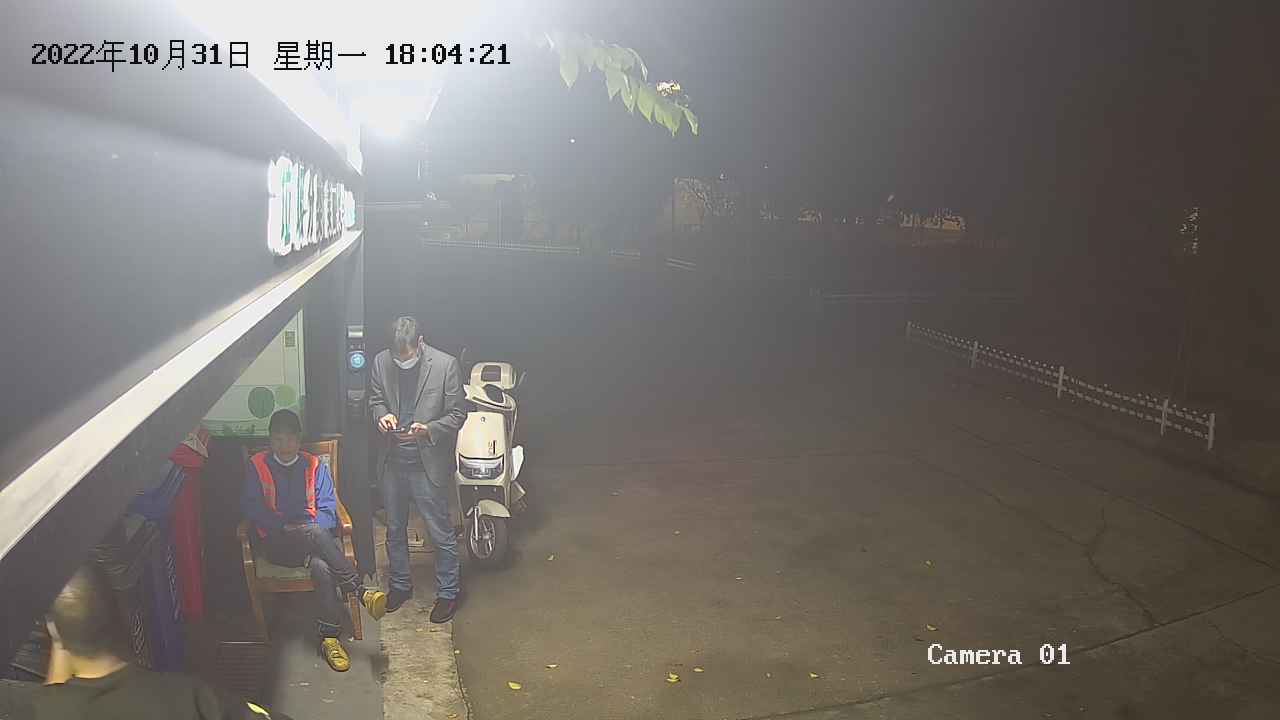person: (366, 314, 471, 625)
worker: (240, 407, 388, 674)
